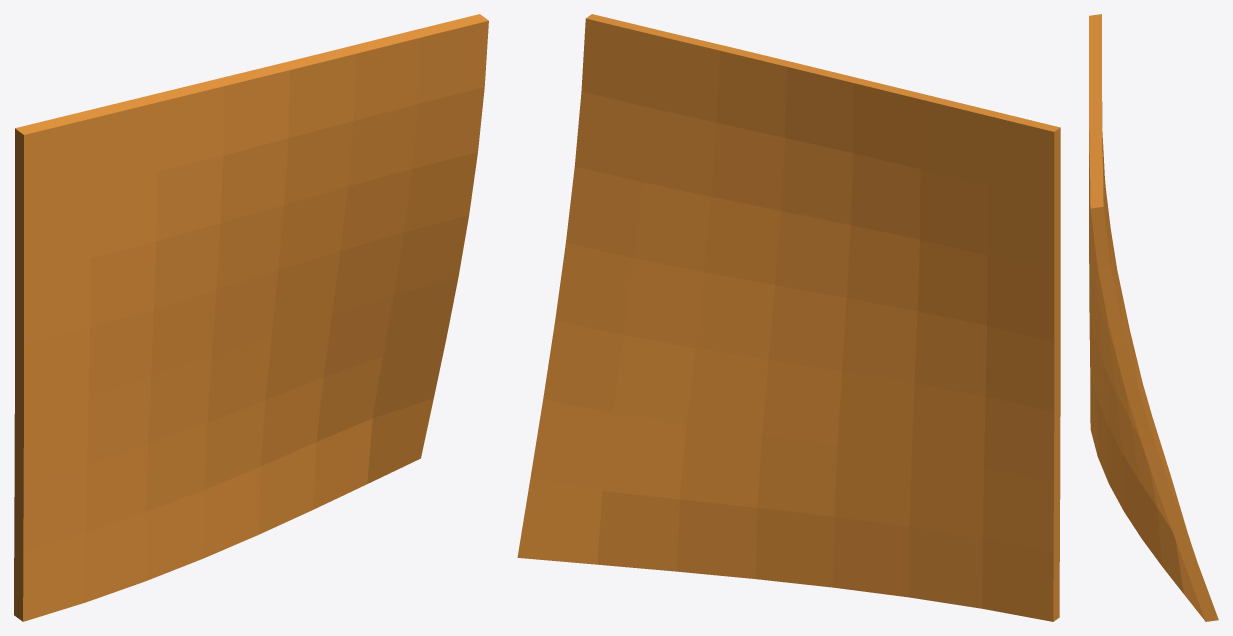
The model's file is bedroom-stickynotes-organized.gltf.
3 renders of one model, left to right at view 1: azimuth 30°, elevation 25°; view 2: azimuth 150°, elevation 25°; view 3: azimuth 270°, elevation 25°, orthographic. The views are drawn at different scales.
Parts seen in each view (by area): view 1: Sticky Notes; view 2: Sticky Notes; view 3: Sticky Notes.
Part boxes in pixels (<box>): Sticky Notes: <box>14,14,488,621</box>; Sticky Notes: <box>517,14,1060,621</box>; Sticky Notes: <box>1089,14,1218,621</box>.
Size of the model in its own units: 0.1042 by 0.1042 by 0.0296.
